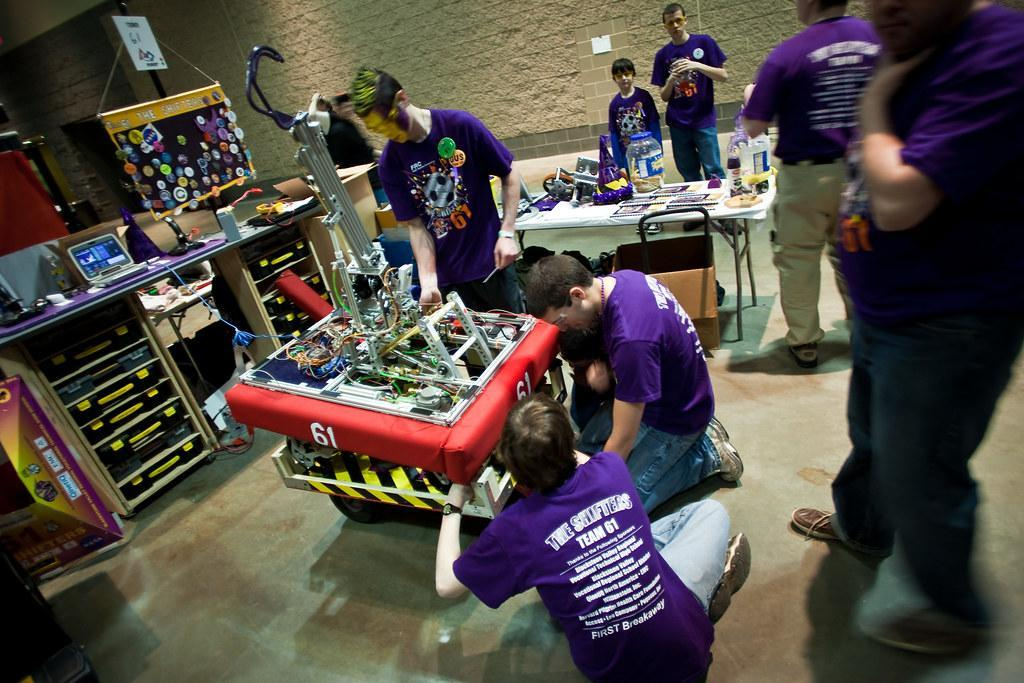robot: (225, 46, 564, 486)
